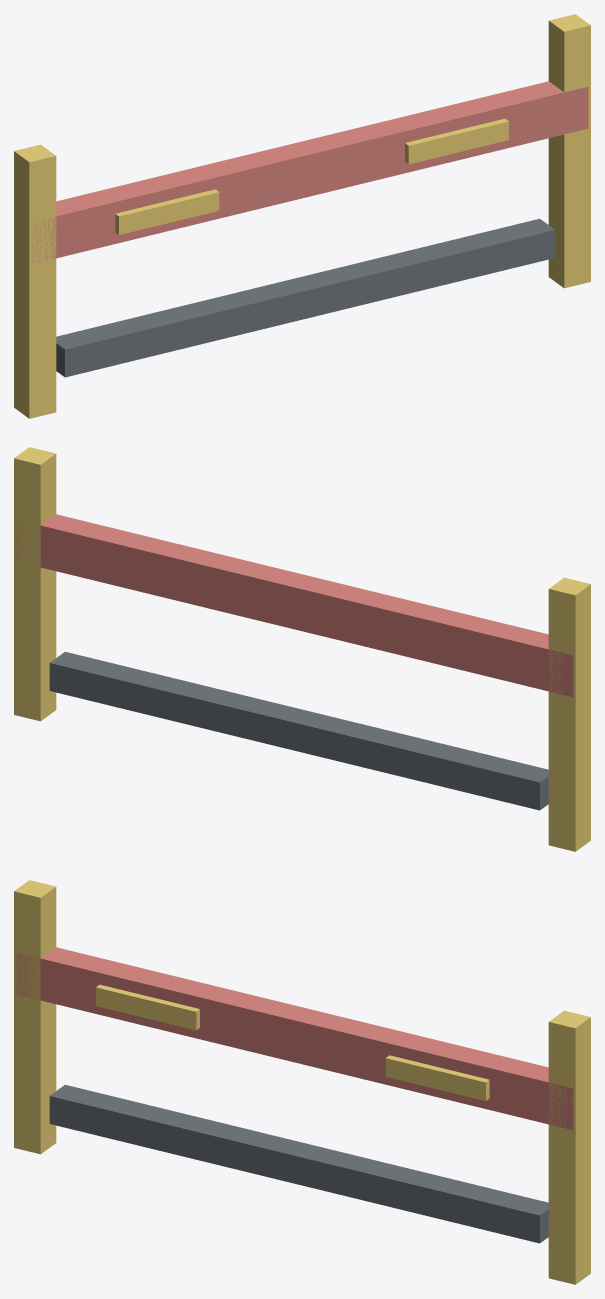
The model's file is barrier_lod1.glb.
The picture shows the model from 3 angles, top to bottom: view 1: azimuth 30°, elevation 25°; view 2: azimuth 150°, elevation 25°; view 3: azimuth 330°, elevation 25°; orthographic projection.
Visible parts, largest first — view 1: barrier-node-2, barrier-node-5, barrier-node-0, barrier-node-1, barrier-node-3, barrier-node-4; view 2: barrier-node-2, barrier-node-5, barrier-node-0, barrier-node-1; view 3: barrier-node-2, barrier-node-5, barrier-node-1, barrier-node-0, barrier-node-4, barrier-node-3.
Part boxes in pixels (left/top/right/bottom): barrier-node-2: left=32, top=81, right=588, bottom=262; barrier-node-5: left=56, top=218, right=555, bottom=377; barrier-node-0: left=14, top=144, right=56, bottom=418; barrier-node-1: left=548, top=14, right=590, bottom=288; barrier-node-3: left=115, top=189, right=219, bottom=234; barrier-node-4: left=405, top=118, right=508, bottom=164; barrier-node-2: left=16, top=514, right=573, bottom=697; barrier-node-5: left=49, top=651, right=548, bottom=810; barrier-node-0: left=548, top=577, right=590, bottom=851; barrier-node-1: left=14, top=447, right=56, bottom=721; barrier-node-2: left=16, top=947, right=573, bottom=1130; barrier-node-5: left=49, top=1084, right=548, bottom=1243; barrier-node-1: left=548, top=1010, right=590, bottom=1284; barrier-node-0: left=14, top=880, right=56, bottom=1154; barrier-node-4: left=385, top=1055, right=489, bottom=1100; barrier-node-3: left=96, top=984, right=199, bottom=1030.
Bounding box in the file's own units: 2.52 × 1.1 × 0.15.
